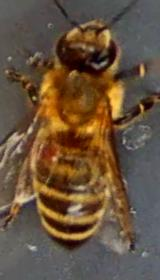varroa_mite: (17, 129, 71, 166)
